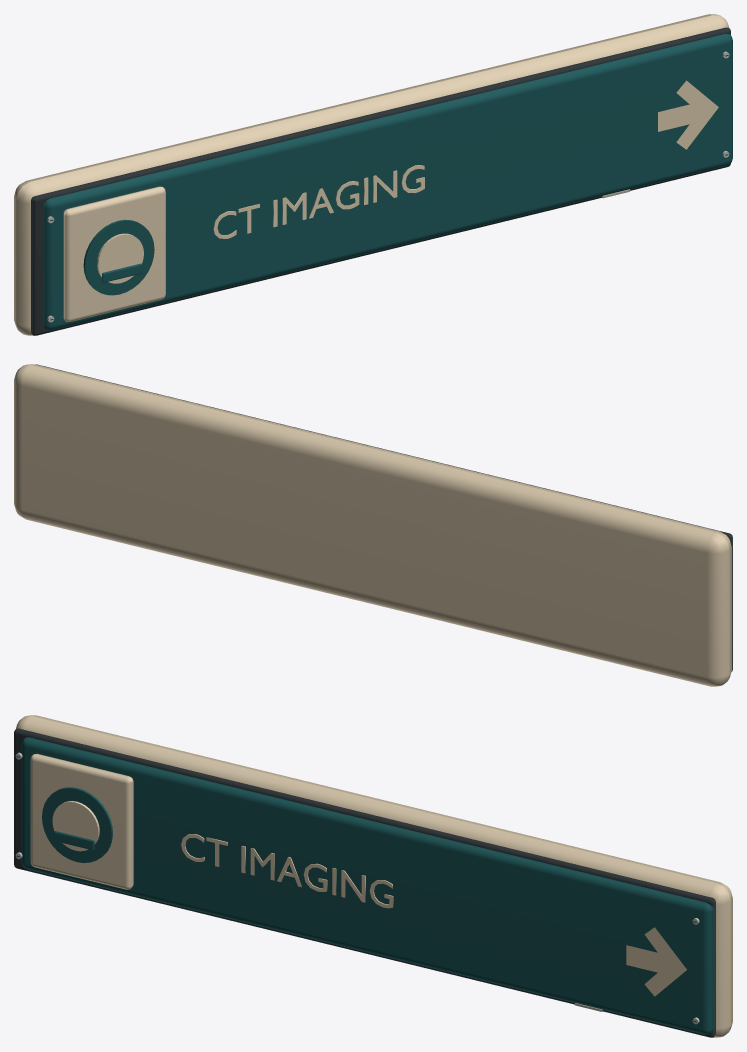
File: sign_ct_imaging.glb
3 renders of one model, top to bottom at view 1: azimuth 30°, elevation 25°; view 2: azimuth 150°, elevation 25°; view 3: azimuth 330°, elevation 25°, orthographic.
Parts seen in each view (by area): view 1: sign_ct_imaging__Enamel_Teal, sign_ct_imaging__Shell_Warm_Cream, sign_ct_imaging__Rubber_Graphite; view 2: sign_ct_imaging__Shell_Warm_Cream, sign_ct_imaging__Rubber_Graphite; view 3: sign_ct_imaging__Enamel_Teal, sign_ct_imaging__Shell_Warm_Cream, sign_ct_imaging__Rubber_Graphite.
Boxes of the visible parts, box(x1,y1,x2,y2) form: sign_ct_imaging__Enamel_Teal: box(43, 33, 732, 330); sign_ct_imaging__Shell_Warm_Cream: box(14, 14, 729, 335); sign_ct_imaging__Rubber_Graphite: box(31, 27, 730, 335); sign_ct_imaging__Shell_Warm_Cream: box(14, 364, 731, 686); sign_ct_imaging__Rubber_Graphite: box(36, 364, 732, 671); sign_ct_imaging__Enamel_Teal: box(21, 737, 714, 1034); sign_ct_imaging__Shell_Warm_Cream: box(16, 715, 732, 1037); sign_ct_imaging__Rubber_Graphite: box(14, 728, 715, 1037).
Size of the model in its own units: 0.9 by 0.185 by 0.0735.
